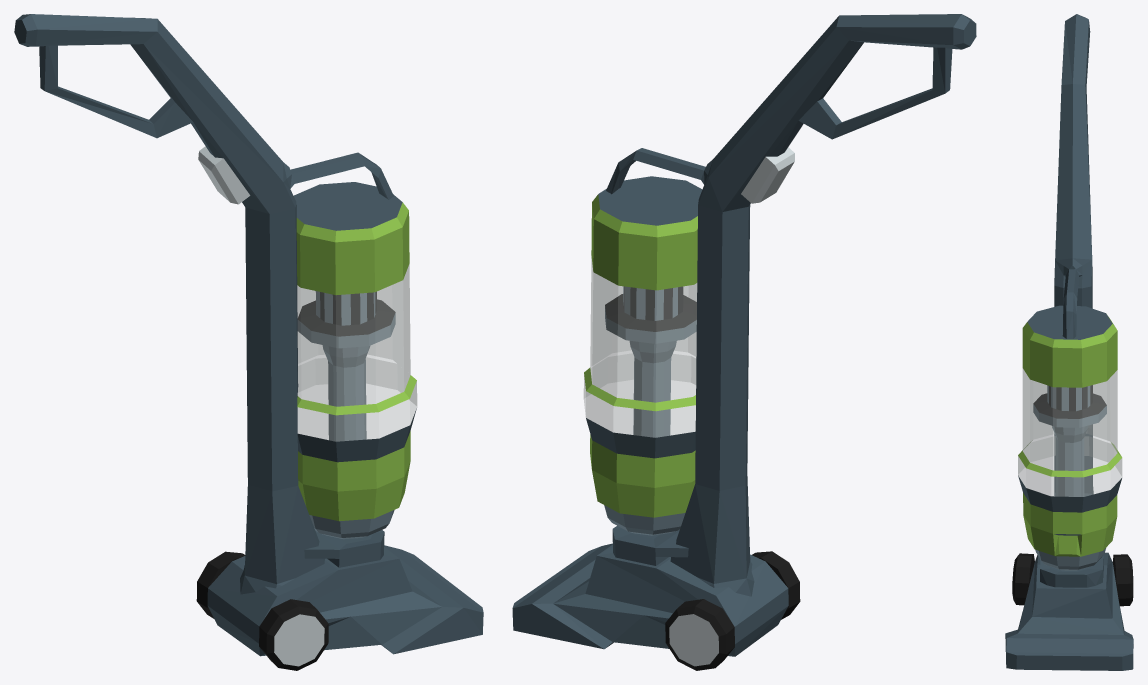
File: scene_xo96GODjl7.glb
The picture shows the model from 3 angles, left to right: view 1: azimuth 30°, elevation 25°; view 2: azimuth 150°, elevation 25°; view 3: azimuth 270°, elevation 25°; orthographic projection. The views are drawn at different scales.
Parts seen in each view (by area): view 1: group115819083; view 2: group115819083; view 3: group115819083.
Part boxes in pixels (<box>): group115819083: <box>14,14,483,670</box>; group115819083: <box>512,14,976,670</box>; group115819083: <box>1005,14,1133,670</box>.
Bounding box in the file's own units: 1.51 × 2.33 × 0.5329.
